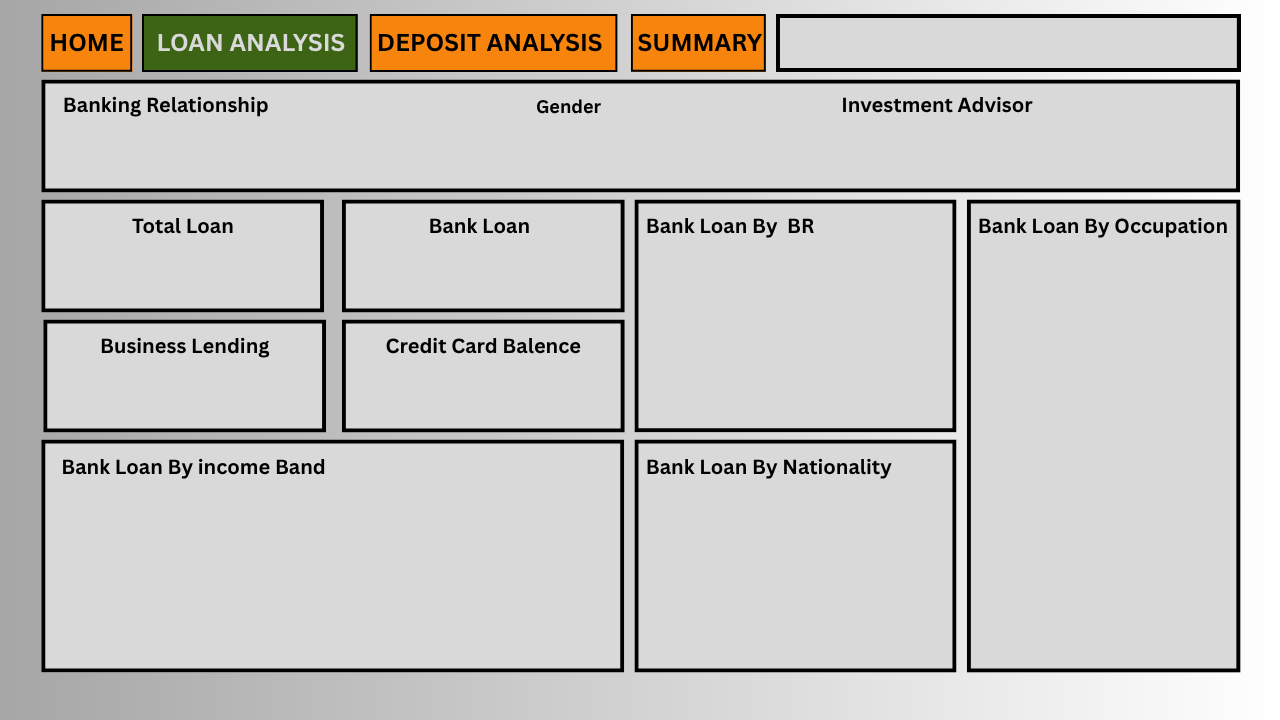

Layout of this report page (visuals, bound fields, positions):
{"tool":"powerbi","page":{"name":"Loan Analysis","canvas":[1280,720],"ordinal":1},"visuals":[{"type":"slicer","fields":{"Values":["banking_case customer.Year of Joining"]},"box":[764.3,15.1,483,49.4],"z":0},{"type":"actionButton","box":[45.3,15.1,83.7,49.4],"z":1000},{"type":"actionButton","box":[374.6,15.1,240.1,49.4],"z":2000},{"type":"actionButton","box":[635.3,15.1,129,49.4],"z":3000},{"type":"card","fields":{"Values":["banking_case customer.Total Loan"]},"box":[87.8,233.3,197.6,65.9],"z":4000},{"type":"card","fields":{"Values":["Sum(banking_case customer.Bank Loans)"]},"box":[385.6,233.3,186.6,65.9],"z":5000},{"type":"card","fields":{"Values":["Sum(banking_case customer.Business Lending)"]},"box":[75.5,349.9,209.9,65.9],"z":6000},{"type":"card","fields":{"Values":["Sum(banking_case customer.Credit Card Balance)"]},"box":[385.6,349.9,186.6,65.9],"z":7000},{"type":"donutChart","fields":{"Category":["banking_case customer.Income Band"],"Y":["Sum(banking_case customer.Bank Loans)"]},"box":[45.3,478.9,569.5,182.5],"z":8000},{"type":"clusteredColumnChart","fields":{"Category":["banking_case customer.BRId"],"Y":["Sum(banking_case customer.Bank Loans)"]},"box":[639.4,238.9,305.2,183.4],"z":9000},{"type":"clusteredColumnChart","fields":{"Y":["Sum(banking_case customer.Bank Loans)"],"Category":["banking_case customer.Nationality"]},"box":[639.5,473.4,304.6,183.9],"z":10000},{"type":"clusteredColumnChart","fields":{"Y":["Sum(banking_case customer.Bank Loans)"],"Category":["banking_case customer.Occupation"]},"box":[974.3,220.9,251.1,440.5],"z":11000},{"type":"slicer","fields":{"Values":["banking_case customer.BRId"]},"box":[35,118.2,477.8,55.5],"z":12000},{"type":"slicer","fields":{"Values":["banking_case customer.GenderId"]},"box":[512.7,118.2,278.7,55.5],"z":13000},{"type":"slicer","fields":{"Values":["banking_case customer.IAId"]},"box":[830,118.2,351.1,55.5],"z":14000}]}

Visuals, with their boxes in screenshot pixels (x1, y1, x2, y2), scaled from the page's 1280x720 canvas onto the 1280x720 screenshot:
slicer - banking_case customer.Year of Joining: x1=764 y1=15 x2=1247 y2=64
actionButton: x1=45 y1=15 x2=129 y2=64
actionButton: x1=375 y1=15 x2=615 y2=64
actionButton: x1=635 y1=15 x2=764 y2=64
card - banking_case customer.Total Loan: x1=88 y1=233 x2=285 y2=299
card - Sum(banking_case customer.Bank Loans): x1=386 y1=233 x2=572 y2=299
card - Sum(banking_case customer.Business Lending): x1=76 y1=350 x2=285 y2=416
card - Sum(banking_case customer.Credit Card Balance): x1=386 y1=350 x2=572 y2=416
donutChart - banking_case customer.Income Band x Sum(banking_case customer.Bank Loans): x1=45 y1=479 x2=615 y2=661
clusteredColumnChart - banking_case customer.BRId x Sum(banking_case customer.Bank Loans): x1=639 y1=239 x2=945 y2=422
clusteredColumnChart - Sum(banking_case customer.Bank Loans) x banking_case customer.Nationality: x1=640 y1=473 x2=944 y2=657
clusteredColumnChart - Sum(banking_case customer.Bank Loans) x banking_case customer.Occupation: x1=974 y1=221 x2=1225 y2=661
slicer - banking_case customer.BRId: x1=35 y1=118 x2=513 y2=174
slicer - banking_case customer.GenderId: x1=513 y1=118 x2=791 y2=174
slicer - banking_case customer.IAId: x1=830 y1=118 x2=1181 y2=174
